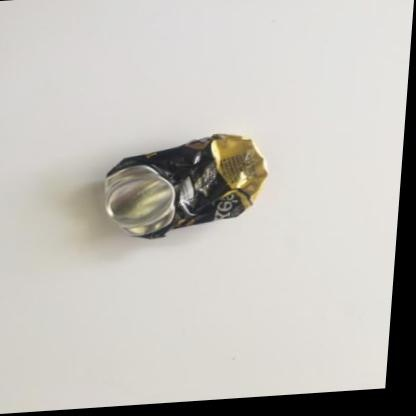trash: (105, 134, 266, 237)
